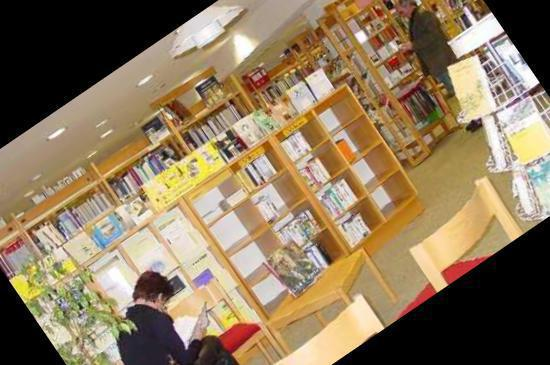Matera: (0, 254, 187, 365)
